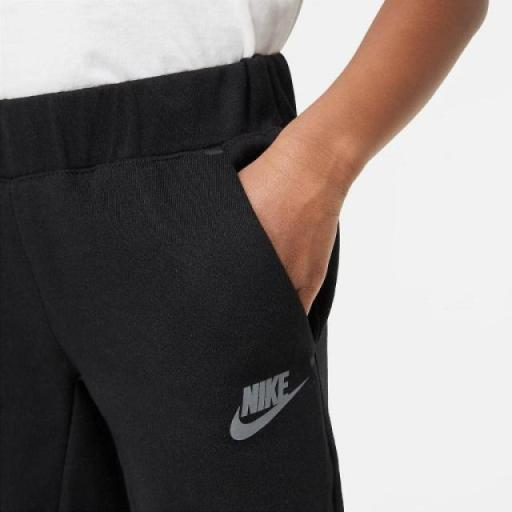Nike: (228, 391, 299, 444), (238, 371, 291, 419)
